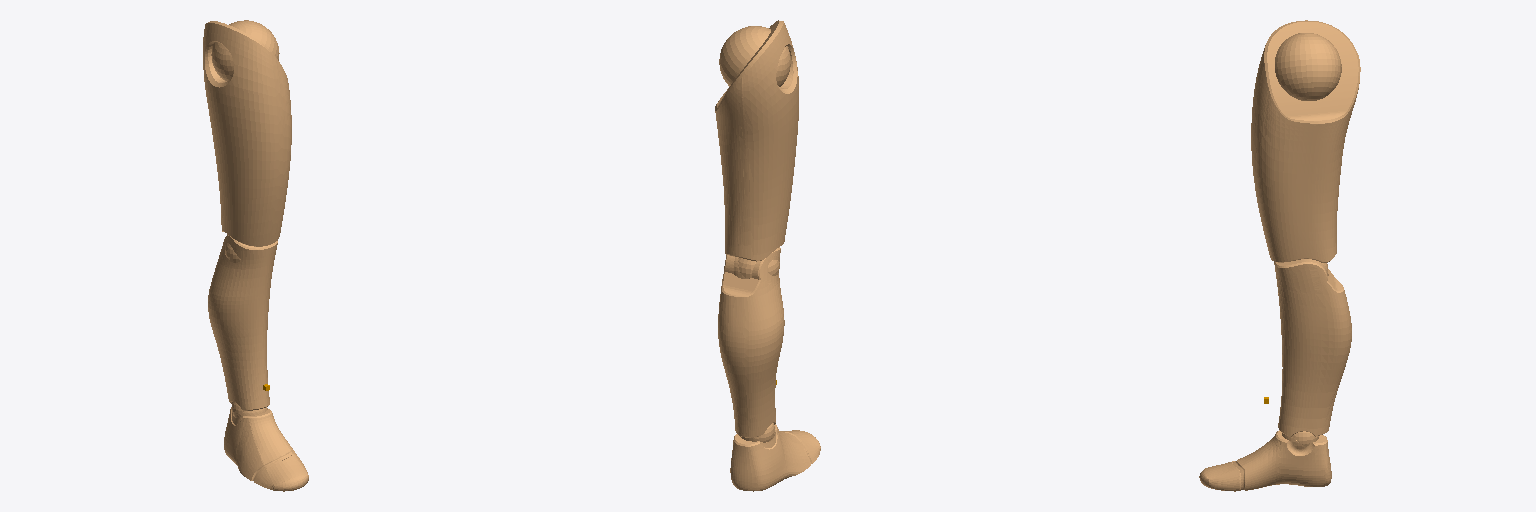
robot.urdf — right_leg:
<?xml version="1.0" ?>
<robot name="right_leg">

  <material name="skin">
    <color rgba="0.9 0.72 0.53 1.000"/>
  </material>

  <link name="base_link">
    <inertial>
      <origin xyz="0.0 0.0 0.0" rpy="0 0 0"/>
      <mass value="0.0"/>
      <inertia ixx="0.0" iyy="0.0" izz="0.0" ixy="0.0" iyz="0.0" ixz="0.0"/>
    </inertial>
  </link>

  <joint name="base_fixed" type="fixed">
    <origin rpy="0 0 0.0" xyz="0 0 0.0"/>
    <parent link="base_link"/>
    <child link="base_link_0"/>
  </joint>

  <link name="base_link_0">
    <inertial>
      <origin xyz="0.0 0.0 0.0" rpy="0 0 0"/>
      <mass value="0.0"/>
      <inertia ixx="0.0" iyy="0.0" izz="0.0" ixy="0.0" iyz="0.0" ixz="0.0"/>
    </inertial>
  </link>

  <link name="base_link_1">
    <inertial>
      <origin xyz="0.0 0.0 0.0" rpy="0 0 0"/>
      <mass value="0.0"/>
      <inertia ixx="0.0" iyy="0.0" izz="0.0" ixy="0.0" iyz="0.0" ixz="0.0"/>
    </inertial>
  </link>

  <link name="base_link_2">
    <inertial>
      <origin xyz="0.0 0.0 0.0" rpy="0 0 0"/>
      <mass value="0.0"/>
      <inertia ixx="0.0" iyy="0.0" izz="0.0" ixy="0.0" iyz="0.0" ixz="0.0"/>
    </inertial>
  </link>

    <link name="foot_x">
    <inertial>
      <origin xyz="0.0 0.0 0.0" rpy="0 0 0"/>
      <mass value="0.0"/>
      <inertia ixx="0.0" iyy="0.0" izz="0.0" ixy="0.0" iyz="0.0" ixz="0.0"/>
    </inertial>
  </link>

  <link name="upper_leg">
    <inertial>
      <origin xyz="0.00277 -0.00352 -0.098" rpy="0 0 0"/>
      <mass value="1.0"/>
      <inertia ixx="0.00691" iyy="0.00674" izz="0.00097" ixy="-6.65745e-06" iyz="-7.0718e-05" ixz="0.00015"/>
    </inertial>
    <visual>
      <origin xyz="0 0 0" rpy="0 0 0"/>
      <geometry>
        <mesh filename="meshes/right_upper_leg.stl" scale="1.0 1.0 1.0"/>
      </geometry>
      <material name="skin"/>
    </visual>
    <collision>
      <origin xyz="0 0 0" rpy="0 0 0"/>
      <geometry>
        <mesh filename="meshes/right_upper_leg.stl" scale="1.0 1.0 1.0"/>
      </geometry>
    </collision>
  </link>

  <link name="lower_leg">
    <inertial>
      <origin xyz="0.01457 9.28389e-05 -0.19143" rpy="0 0 0"/>
      <mass value="1.0"/>
      <inertia ixx="0.01712" iyy="0.01699" izz="0.00072" ixy="-5.34657e-05" iyz="-0.00071" ixz="0.00031"/>
    </inertial>
    <visual>
      <origin xyz="0.0 0.0 0.0" rpy="0 0 0"/>
      <geometry>
        <mesh filename="meshes/right_lower_leg_without_foot.stl" scale="1.0 1.0 1.0"/>
      </geometry>
      <material name="skin"/>
    </visual>
    <collision>
      <origin xyz="0.0 0.0 0.0" rpy="0 0 0"/>
      <geometry>
        <mesh filename="meshes/right_lower_leg_without_foot.stl" scale="1.0 1.0 1.0"/>
      </geometry>
    </collision>
  </link>

  <link name="foot">
    <inertial>
      <origin xyz="0.16051 -0.012319 0.075256" rpy="0 0 0"/>
      <mass value="1.0"/>
      <inertia ixx="0.01712" iyy="0.01699" izz="0.00072" ixy="-5.34657e-05" iyz="-0.00071" ixz="0.00031"/>
    </inertial>
    <visual>
      <origin xyz="0.0 0.0 0.0" rpy="0 0 0"/>
      <geometry>
        <mesh filename="meshes/right_foot.stl" scale="1.0 1.0 1.0"/>
      </geometry>
      <material name="skin"/>
    </visual>
    <collision>
      <origin xyz="0.0 0.0 0.0" rpy="0 0 0"/>
      <geometry>
        <mesh filename="meshes/right_foot.stl" scale="1.0 1.0 1.0"/>
      </geometry>
    </collision>
  </link>

  <joint name="base_x" type="continuous">
    <origin xyz="0.0 0.0 0.0" rpy="0 0 0"/>
    <parent link="base_link_0"/>
    <child link="base_link_1"/>
    <axis xyz="1.0 0.0 0.0"/>
    <!-- <limit effort="100" lower="-1.57" upper="1.57" velocity="5.0"/> -->
  </joint>

  <joint name="base_y" type="continuous">
    <origin xyz="0.0 0.0 0.0" rpy="0 0 0"/>
    <parent link="base_link_1"/>
    <child link="base_link_2"/>
    <axis xyz="0.0 1.0 0.0"/>
    <!-- <limit effort="100" lower="-1.57" upper="0" velocity="5.0"/> -->
  </joint>

  <joint name="base_z" type="continuous">
    <origin xyz="0.0 0.0 0.0" rpy="0 0 0"/>
    <parent link="base_link_2"/>
    <child link="upper_leg"/>
    <axis xyz="0.0 0.0 1.0"/>
    <!-- <limit effort="100" lower="0.0" upper="1.57" velocity="5.0"/> -->
  </joint>

  <joint name="upper_to_lower" type="continuous">
    <origin xyz="0.0 0.0 -0.430301" rpy="0 0 0"/>
    <parent link="upper_leg"/>
    <child link="lower_leg"/>
    <axis xyz="1.0 0.0 0.0"/>
    <!-- <limit effort="100" lower="-2.0944" upper="0.0" velocity="5.0"/> -->
  </joint>


  <joint name="lower_to_foot_x" type="fixed">
    <origin xyz="0.0 0.0 -0.35039" rpy="0 0 0"/>
    <parent link="lower_leg"/>
    <child link="foot_x"/>
    <!-- <axis xyz="1.0 0.0 0.0"/> -->
    <!-- <limit effort="100" lower="-2.0944" upper="0.0" velocity="5.0"/> -->
  </joint>


  <joint name="lower_to_foot" type="fixed">
    <origin xyz="0.0 0.0 0.0" rpy="0 0 0"/>
    <parent link="foot_x"/>
    <child link="foot"/>
    <!-- <axis xyz="0.0 1.0 0.0"/> -->
    <!-- <limit effort="100" lower="-2.0944" upper="0.0" velocity="5.0"/> -->
  </joint>



  <joint name="grasp_fixed_joint" type="fixed">
    <parent link="foot"/>
    <child link="ee_link"/>
    <origin rpy="0.0 0.0 0.0" xyz="0.0 -0.07 0.07"/>
  </joint>

  <link name="ee_link">
    <inertial>
      <origin xyz="0.0 0.0 0.0" rpy="0 0 0"/>
      <mass value="0.0"/>
      <inertia ixx="0.0" iyy="0.0" izz="0.0" ixy="0.0" iyz="0.0" ixz="0.0"/>
    </inertial>
    <visual>
      <geometry>
        <box size="0.01 0.01 0.01"/>
      </geometry>
      <origin rpy="0 0 0" xyz="0.0 0 0"/>
    </visual>
  </link>

</robot>

--- Facts derived from the render (not from the file) ---
Views: 3 orthographic renders of the robot side by side, from view 1: azimuth 30°, elevation 25°; view 2: azimuth 150°, elevation 25°; view 3: azimuth 270°, elevation 25°.
Model right_leg with 9 links and 8 joints (4 continuous, 4 fixed), rooted at base_link, posed all joints at 0.
Links seen in each view (by area): view 1: upper_leg, lower_leg, foot; view 2: upper_leg, lower_leg, foot; view 3: upper_leg, lower_leg, foot.
Boxes of the visible links, box(x1,y1,x2,y2) form: upper_leg: box(203, 20, 291, 262); lower_leg: box(208, 234, 277, 414); foot: box(224, 407, 308, 491); upper_leg: box(715, 20, 798, 278); lower_leg: box(718, 247, 784, 437); foot: box(730, 424, 820, 491); upper_leg: box(1251, 20, 1360, 267); lower_leg: box(1274, 259, 1351, 439); foot: box(1199, 430, 1331, 491).
Bounding box of the posed robot: 0.1495 × 0.3127 × 0.9649 m (x, y, z).
3 mesh visuals loaded from 3 distinct referenced files (3 binary STL).